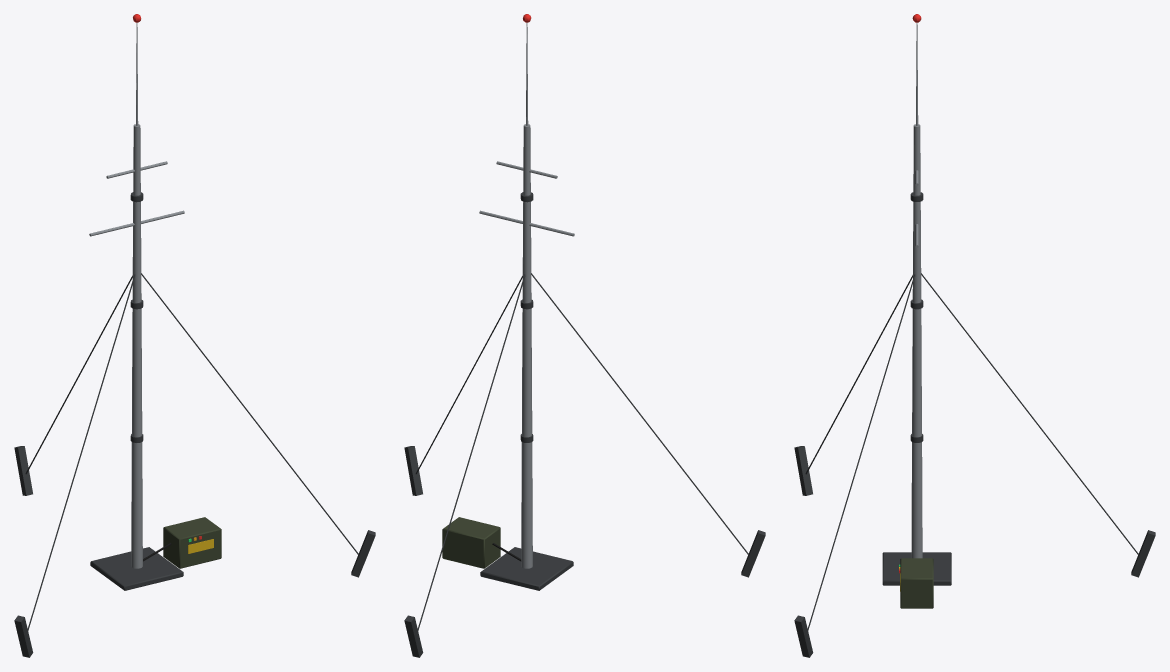
The model's file is SM_Mastil_Radio.fbx.
The picture shows the model from 3 angles, left to right: view 1: azimuth 30°, elevation 25°; view 2: azimuth 150°, elevation 25°; view 3: azimuth 270°, elevation 25°; orthographic projection.
Parts seen in each view (by area): view 1: SM_Mastil_Radio; view 2: SM_Mastil_Radio; view 3: SM_Mastil_Radio.
Part boxes in pixels (x1,y1,x2,y2): SM_Mastil_Radio: (14,14,375,657); SM_Mastil_Radio: (404,14,765,657); SM_Mastil_Radio: (794,14,1155,657).
Size of what is drawn, in the model's own units: 4.24 by 3.67 by 6.29.
